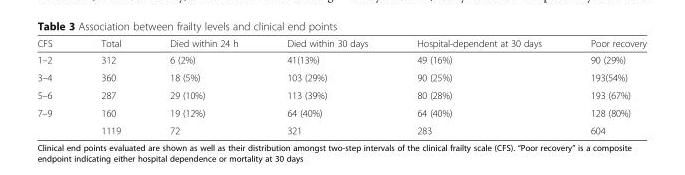table: (36, 37, 646, 135)
table column: (391, 37, 565, 135), (262, 37, 391, 135), (144, 37, 262, 135), (565, 37, 646, 135), (76, 37, 144, 135), (36, 37, 76, 135)
table column header: (36, 37, 646, 51)
table row: (36, 85, 646, 103), (36, 103, 646, 121), (36, 51, 646, 68), (36, 68, 646, 85), (36, 37, 646, 51), (36, 121, 646, 135)
table spanning cell: (36, 103, 76, 135)
